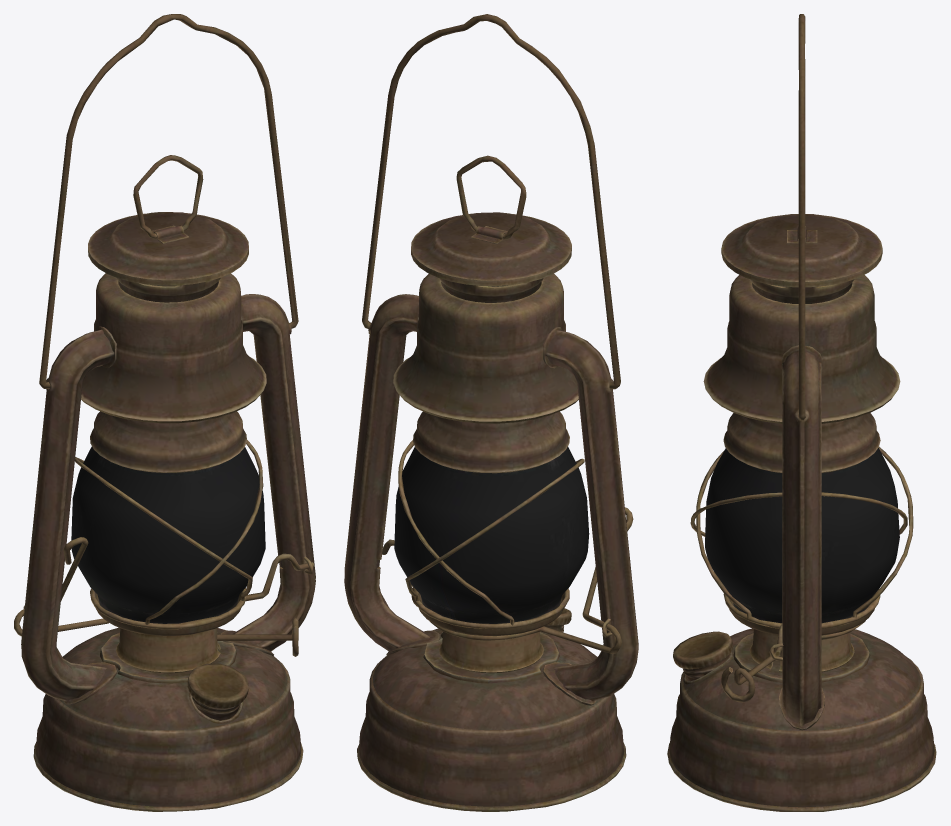
The model's file is Lantern_01_1k_md.glb.
The picture shows the model from 3 angles, left to right: view 1: azimuth 30°, elevation 25°; view 2: azimuth 150°, elevation 25°; view 3: azimuth 270°, elevation 25°; orthographic projection.
Parts seen in each view (by area): view 1: Lantern_01, Lantern_01_glass; view 2: Lantern_01, Lantern_01_glass; view 3: Lantern_01, Lantern_01_glass.
Part boxes in pixels (<box>): Lantern_01: <box>14,14,315,811</box>; Lantern_01_glass: <box>71,446,265,623</box>; Lantern_01: <box>344,14,638,811</box>; Lantern_01_glass: <box>394,446,589,623</box>; Lantern_01: <box>667,14,936,811</box>; Lantern_01_glass: <box>705,448,899,623</box>.
Size of the model in its own units: 0.1221 by 0.294 by 0.097.
2 materials, 2 textured.
